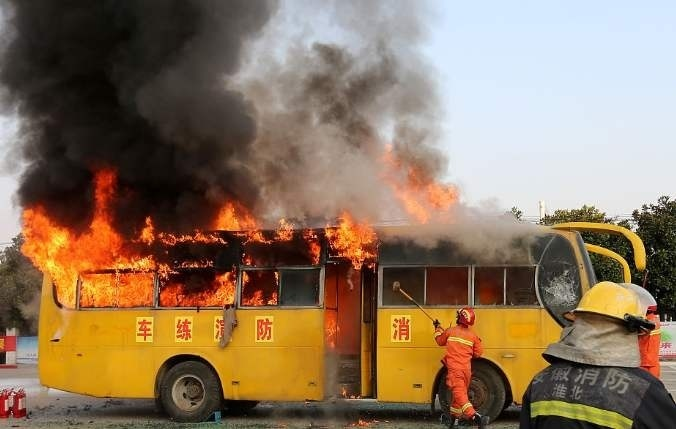fire: (18, 176, 365, 310), (380, 136, 460, 222)
